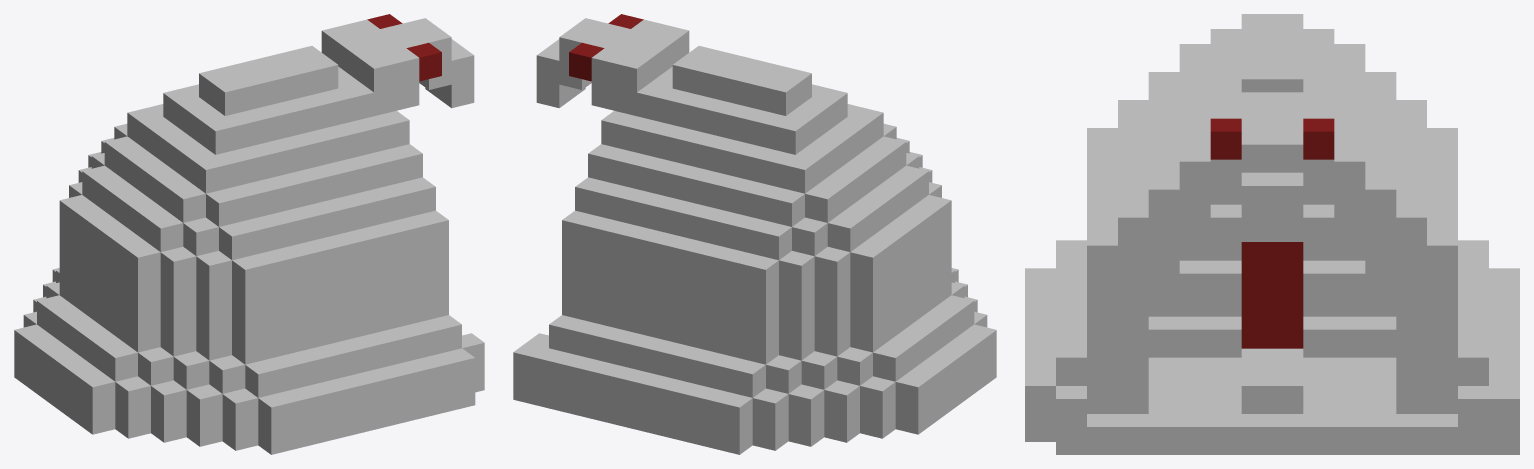
Rendered from cake.fbx.
3 views of the same model, side by side, from view 1: azimuth 30°, elevation 25°; view 2: azimuth 150°, elevation 25°; view 3: azimuth 270°, elevation 25° (orthographic). The views are drawn at different scales.
Visible parts, largest first — view 1: Untitled.004, Untitled.001, Untitled.003, Untitled.002, Untitled.005; view 2: Untitled.004, Untitled.001, Untitled.003, Untitled.002, Untitled.005; view 3: Untitled.004, Untitled.001, Untitled.003, Untitled.002, Untitled.005.
Part boxes in pixels (x1=…): Untitled.004: x1=14, y1=268, x2=484, y2=454; Untitled.001: x1=59, y1=152, x2=448, y2=364; Untitled.003: x1=127, y1=14, x2=441, y2=193; Untitled.002: x1=82, y1=123, x2=435, y2=260; Untitled.005: x1=403, y1=18, x2=474, y2=108; Untitled.004: x1=513, y1=268, x2=996, y2=454; Untitled.001: x1=562, y1=152, x2=951, y2=364; Untitled.003: x1=569, y1=14, x2=883, y2=193; Untitled.002: x1=575, y1=123, x2=928, y2=260; Untitled.005: x1=536, y1=18, x2=607, y2=108; Untitled.004: x1=1025, y1=189, x2=1519, y2=454; Untitled.001: x1=1087, y1=128, x2=1457, y2=357; Untitled.003: x1=1179, y1=14, x2=1365, y2=189; Untitled.002: x1=1118, y1=72, x2=1426, y2=245; Untitled.005: x1=1241, y1=131, x2=1303, y2=241.
Size of the model in its own units: 180 by 120 by 160.
